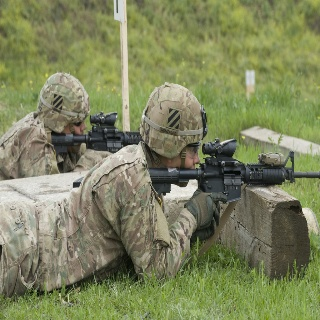rifle: (144, 137, 320, 218), (50, 110, 143, 161)
